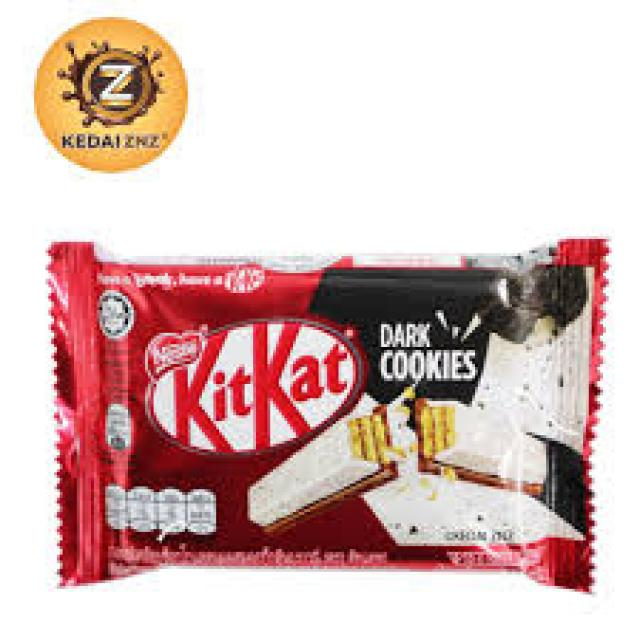kitkat: (51, 241, 601, 590)
